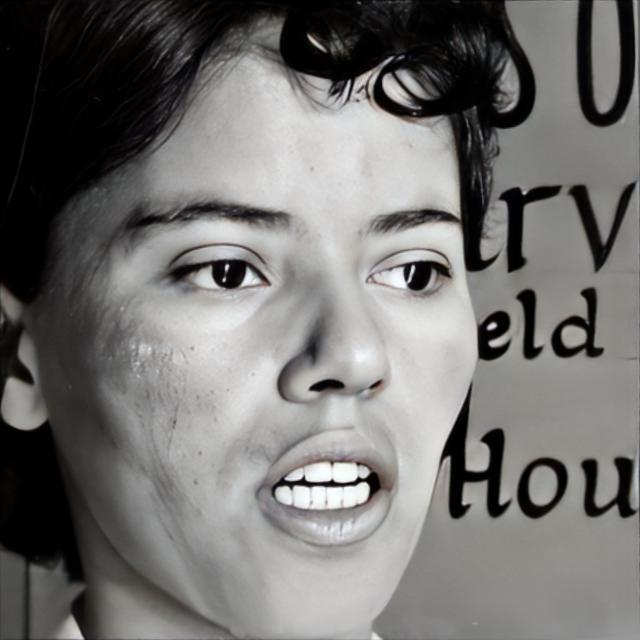disgust: (49, 8, 482, 640)
